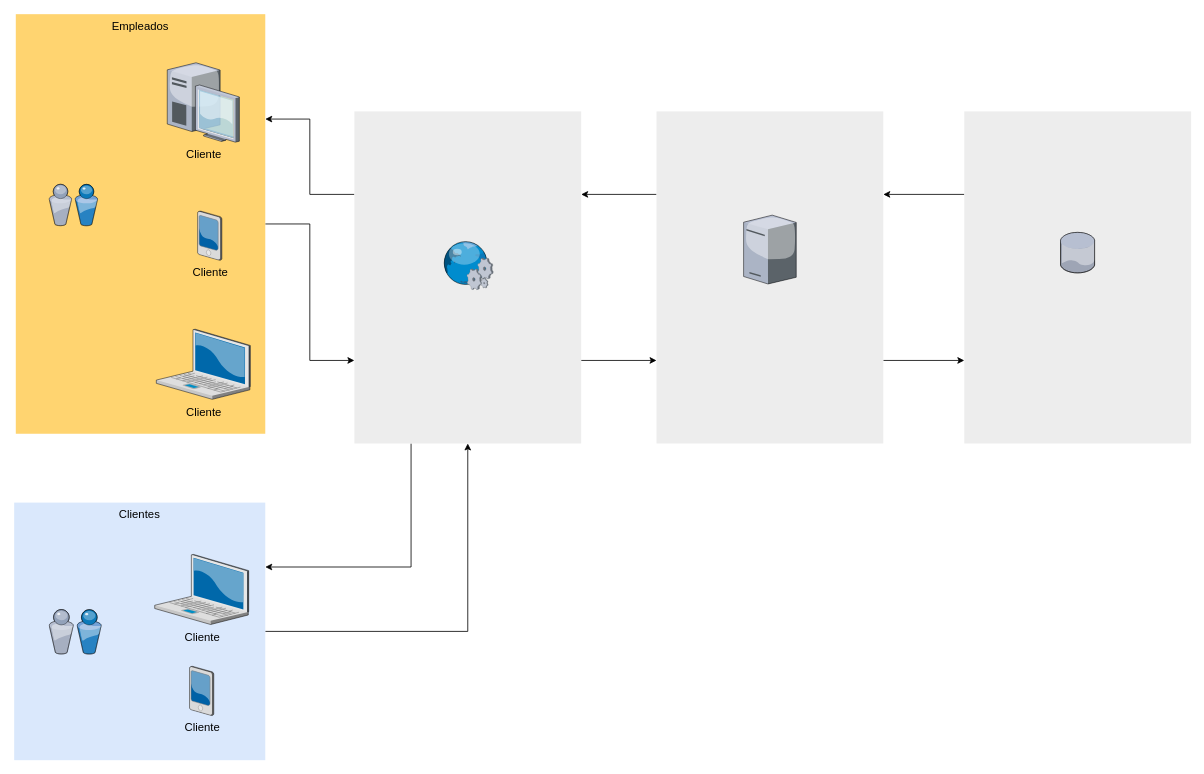
The diagram is 1204 pixels wide and 774 high, and some of its shapes have lost their labels. Here are the shapes that lost their labels. From the top down, the centre of each, then its label:
the point at 467,265: Web service
the point at 1077,252: Base de Datos
